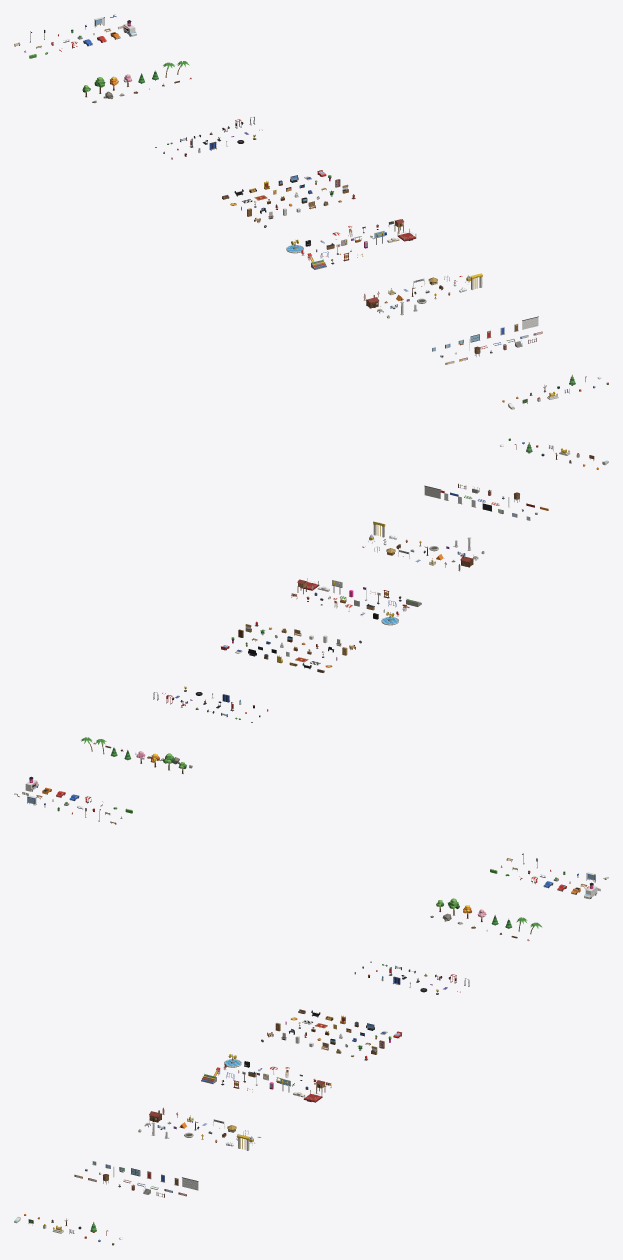
File: props.fbx
3 views of the same model, one above another, from view 1: azimuth 30°, elevation 25°; view 2: azimuth 150°, elevation 25°; view 3: azimuth 330°, elevation 25° (orthographic).
Bounding box in the file's own units: 13085 × 2051 × 100180.
Materials: 1 (1 with a texture image).
